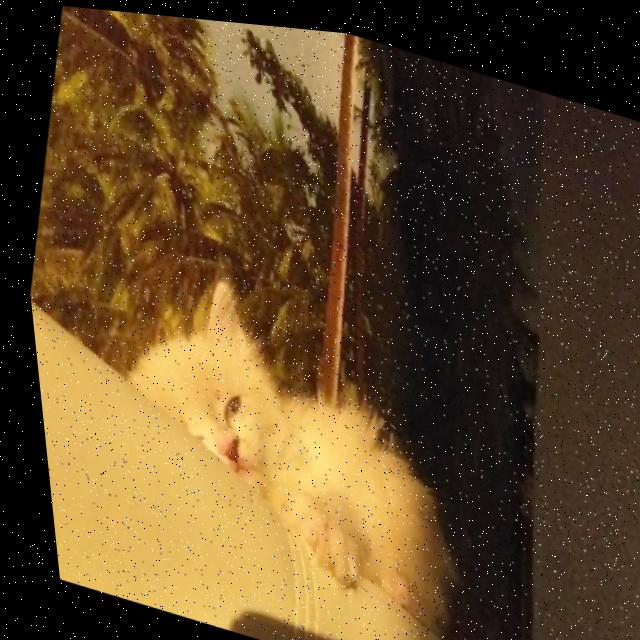Cats: (27, 192, 532, 640)
